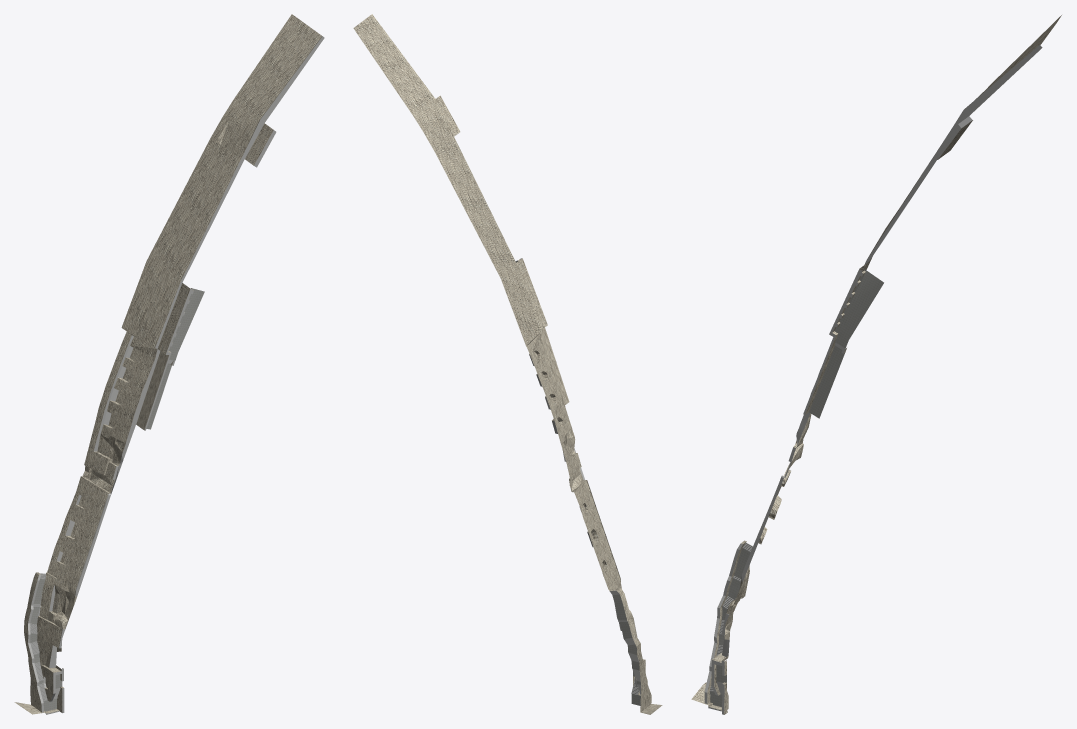
Rendered from Toompeamyyr_a.obj.
3 renders of one model, left to right at view 1: azimuth 30°, elevation 25°; view 2: azimuth 150°, elevation 25°; view 3: azimuth 330°, elevation 25°, orthographic. The views are drawn at different scales.
Parts seen in each view (by area): view 1: Toompeamyyr_a; view 2: Toompeamyyr_a; view 3: Toompeamyyr_a.
Part boxes in pixels (left/top/right/bottom): Toompeamyyr_a: left=14, top=14, right=324, bottom=714; Toompeamyyr_a: left=353, top=14, right=662, bottom=714; Toompeamyyr_a: left=691, top=15, right=1061, bottom=714.
Size of the model in its own units: 87.74 by 177 by 17.55.
